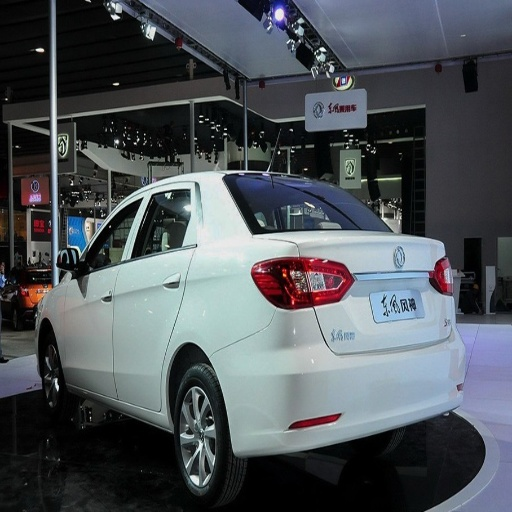back_bumper: (212, 300, 469, 455)
back_glass: (224, 175, 388, 232), (90, 11, 146, 44)
back_left_door: (117, 180, 199, 409)
tailgate: (294, 231, 435, 352)
